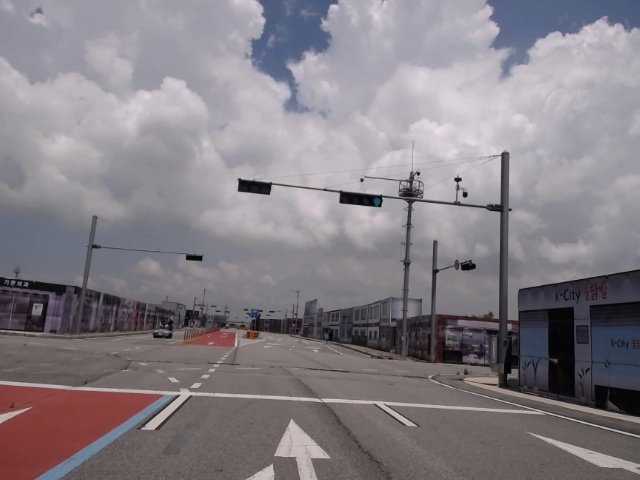straight_green_4: (342, 192, 383, 206)
